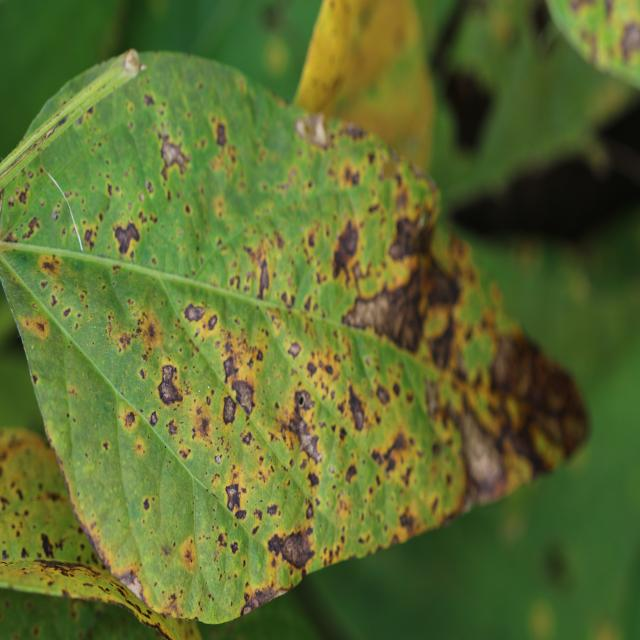Bacterial_Blight: (489, 325, 581, 471), (350, 270, 427, 354), (454, 388, 514, 494), (323, 209, 365, 286), (423, 292, 462, 371), (291, 400, 323, 465), (390, 213, 425, 261), (374, 428, 409, 472), (279, 528, 315, 568), (159, 134, 189, 177), (157, 364, 183, 408), (113, 220, 141, 257), (230, 378, 255, 418), (347, 384, 367, 433), (193, 409, 212, 440), (258, 258, 271, 300), (225, 483, 242, 513), (39, 254, 61, 276), (222, 396, 238, 425), (183, 303, 206, 323), (341, 164, 361, 187), (22, 216, 41, 240), (267, 533, 285, 557), (295, 389, 314, 411), (222, 355, 238, 381), (40, 532, 55, 559), (16, 183, 31, 206), (375, 384, 390, 405), (215, 121, 227, 147), (83, 228, 96, 249), (287, 340, 302, 358), (166, 418, 180, 437), (345, 464, 358, 484), (146, 321, 157, 342), (124, 411, 136, 428), (143, 93, 155, 107), (50, 293, 59, 308), (142, 497, 150, 511)
Soybean: (0, 51, 588, 623)
